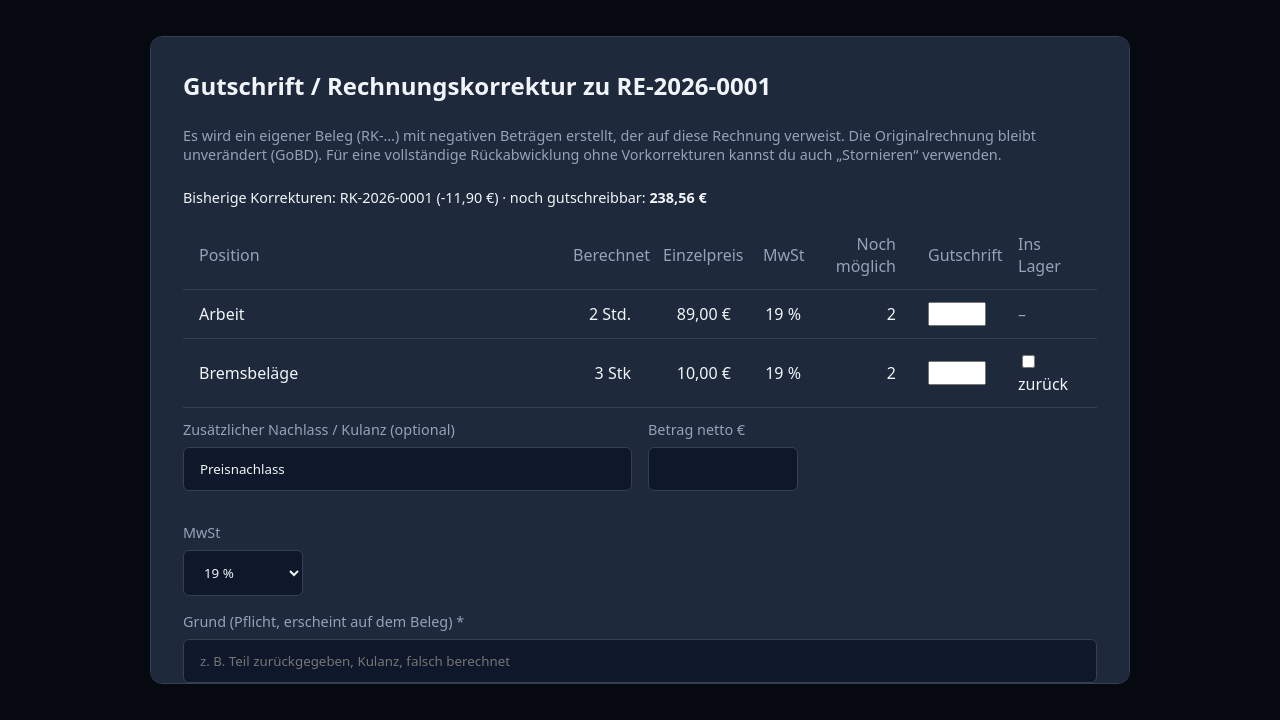
Test case: Rechnungskorrektur-Dialog › verlangt einen Grund
The width and height of the screenshot is (1280, 720).
Expected: the text "Bremsbeläge" is shown, [183, 339, 557, 408]
Step 1. Type "1" into the field named "Gutschrift Menge Position 1" → (957, 314), box [928, 302, 986, 326]
(page scrolled)
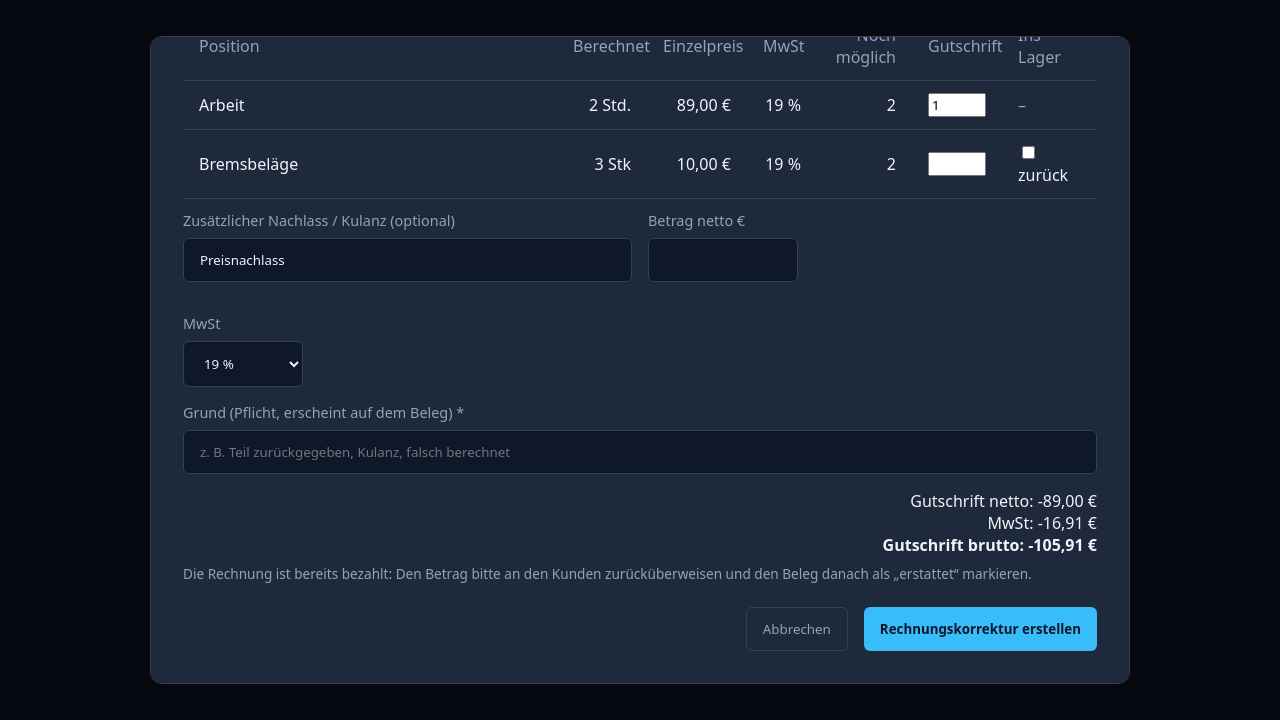
Step 2. Click the button "Rechnungskorrektur erstellen" → (980, 629), box [864, 607, 1097, 651]
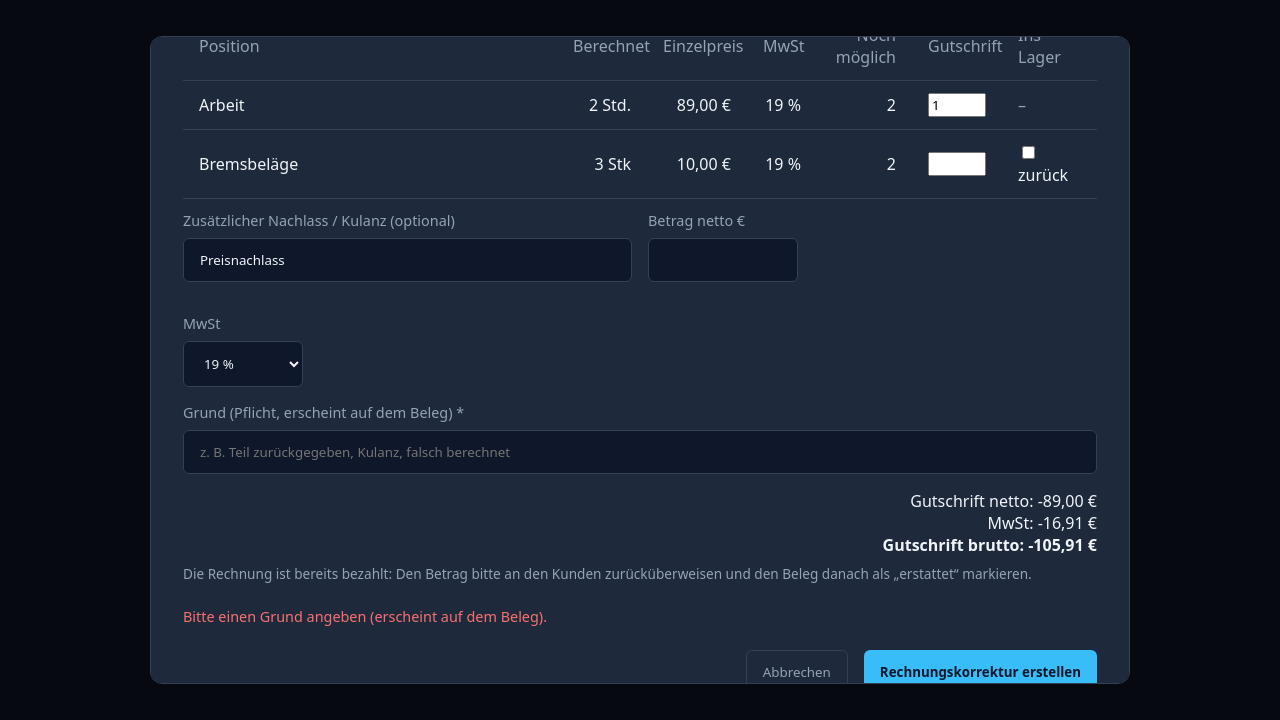
Now the text "Bitte einen Grund angeben (erscheint auf dem Beleg)." is shown, box [183, 607, 547, 626]
